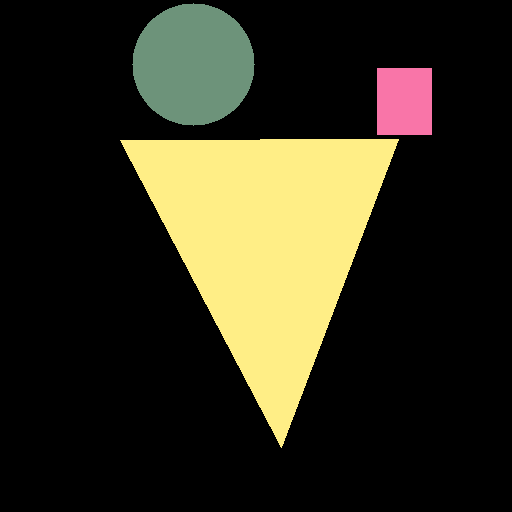circle: (132, 3, 254, 125)
rectangle: (377, 68, 431, 134)
triangle: (120, 139, 398, 447)
